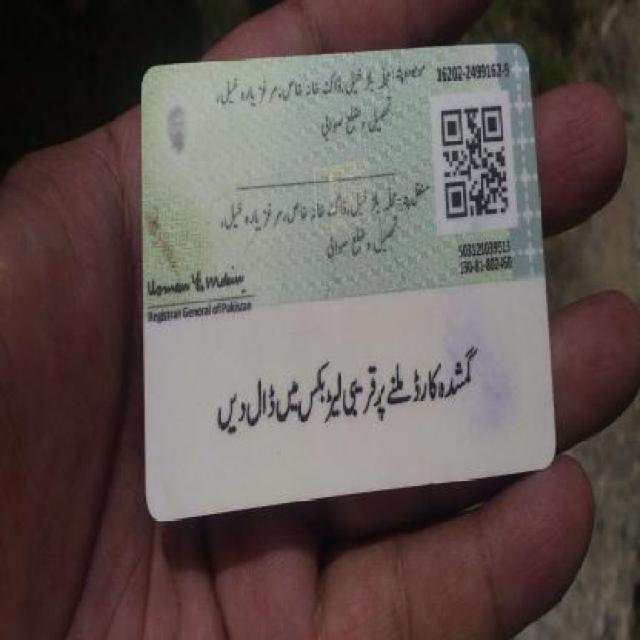Back: (123, 40, 560, 486)
